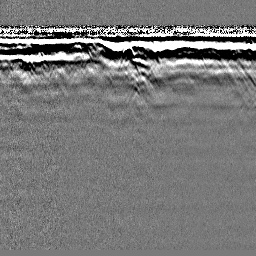cavity: (116, 43, 140, 73)
